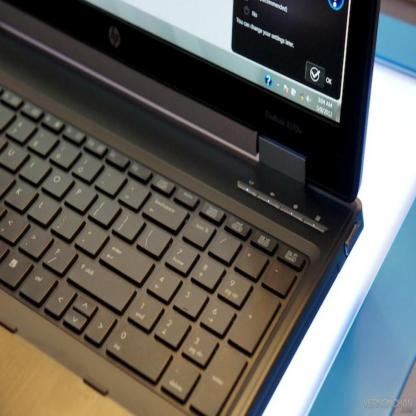board: (0, 0, 381, 415)
